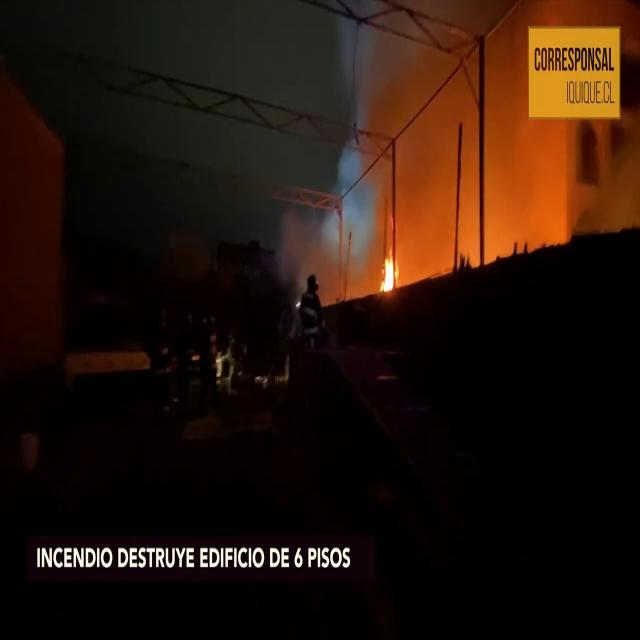Fire: (374, 234, 404, 304)
Smoke: (290, 2, 624, 266)
